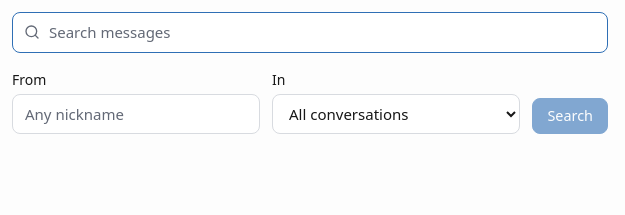
Test: SearchForm › searches everywhere and reports errors and empty results
This screenshot has width=625, height=215.
Expected: the dropdown labelled "In" shows "All conversations", [272, 94, 520, 134]
Expected: the button "Search" is disabled, [532, 98, 608, 134]
Type "x" into the search field at (310, 32), box [12, 12, 608, 52]
Then press Enter
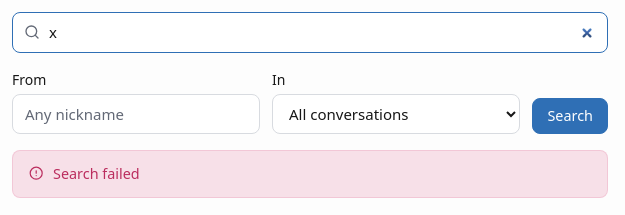
Now the message reads "Search failed", box [53, 164, 140, 183]
Press Enter
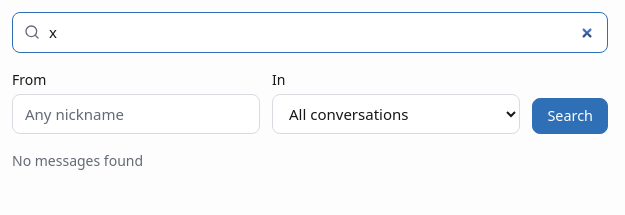
Now the message reads "No messages found", box [12, 151, 143, 170]
